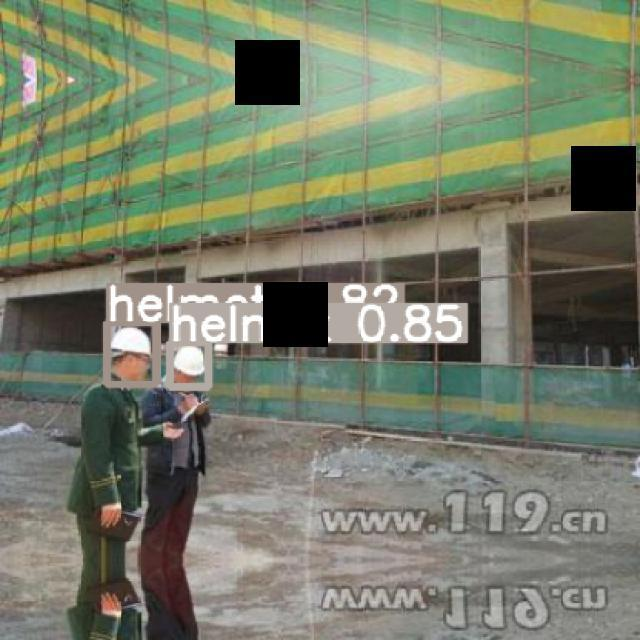white helmet: (111, 328, 153, 359), (174, 349, 205, 379)
